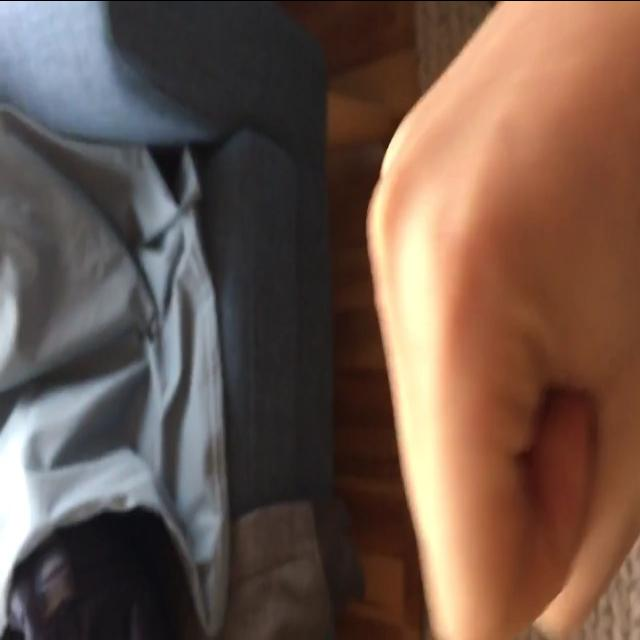Rock: (363, 0, 640, 640)
